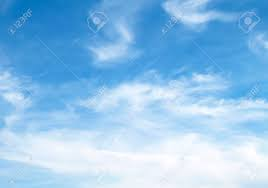sky: (2, 2, 268, 186)
